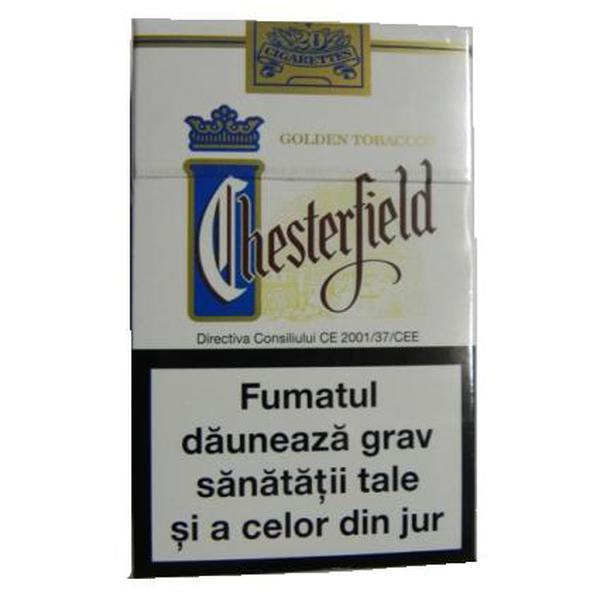chesterfield_blue: (135, 22, 470, 567)
